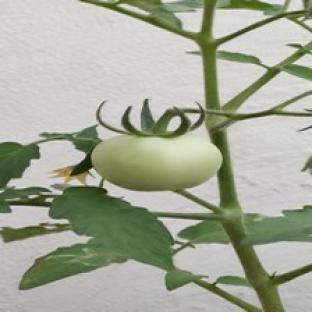Tomato: (91, 134, 222, 190)
